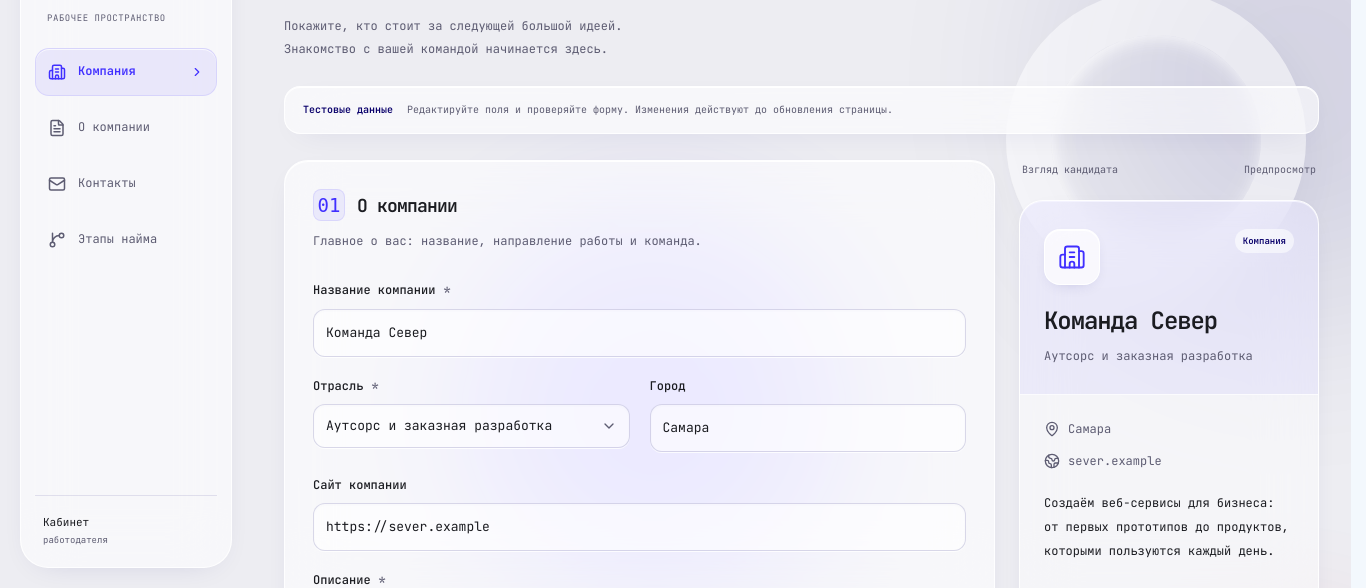
it: company design preview › updates the company card while editing and restores the example on reset
Replace the text in the field labelled "Название компании *" with "Новая   команда" at (640, 333), box [313,309,966,357]
(page scrolled)
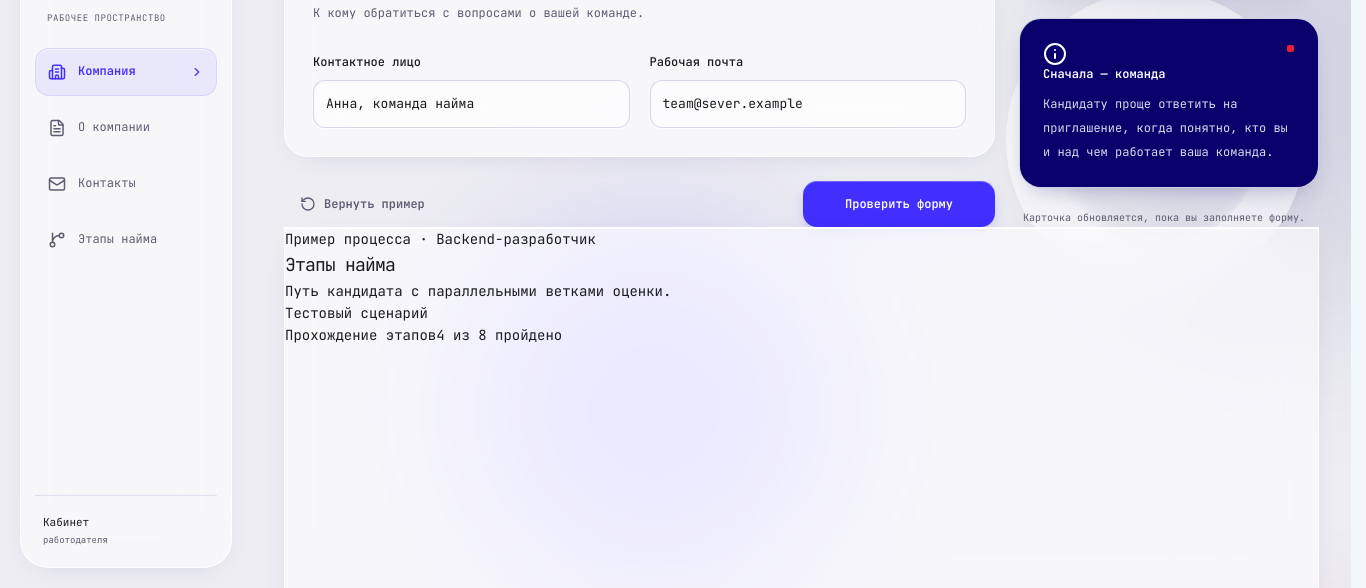
Click the button "Вернуть пример" at (362, 204), box [284,181,441,227]
(page scrolled)
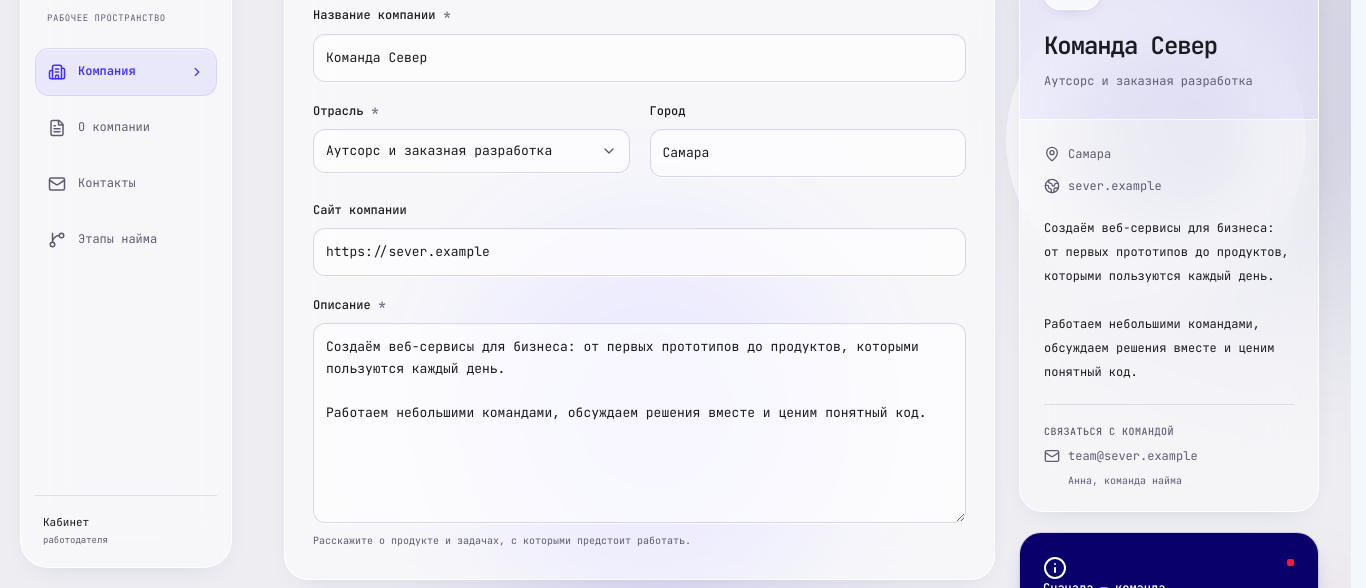
Expected: the field labelled "Название компании *" holds "Команда Север", [313,34,966,82]
Expected: the heading "Команда Север" is shown, [1044,30,1217,61]
